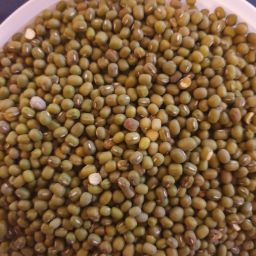Green gram dal(moong): (44, 85, 240, 204), (172, 7, 256, 256), (1, 2, 256, 82), (129, 15, 202, 256), (54, 18, 122, 251), (1, 45, 49, 256)
